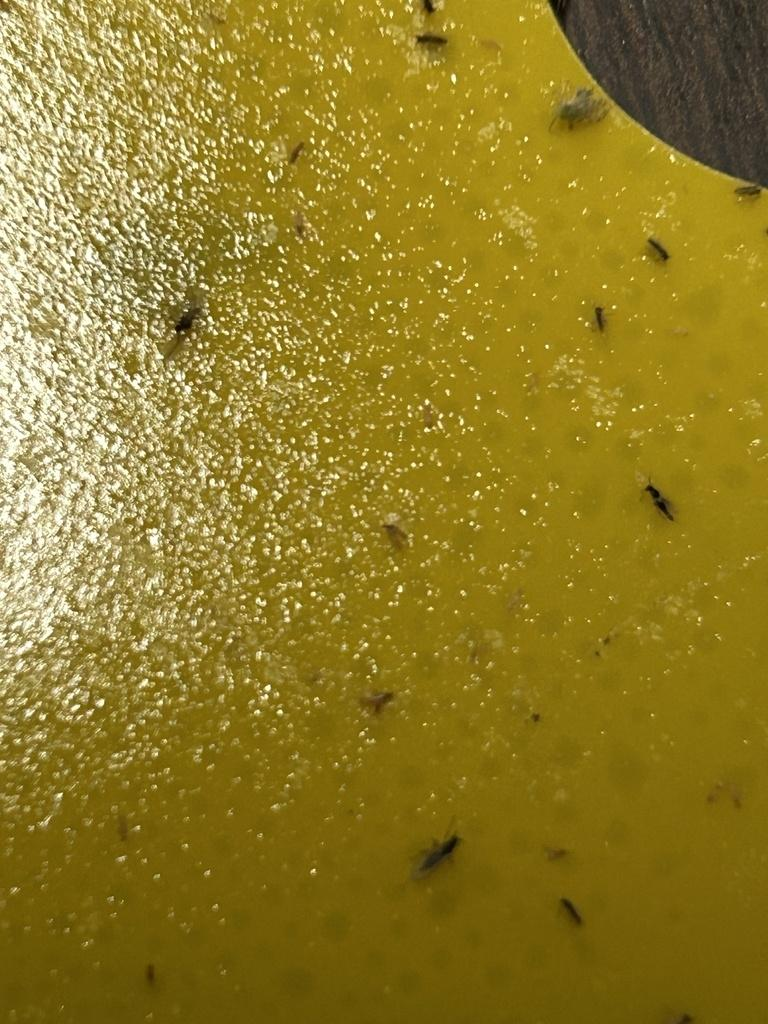tiny_pests: (397, 801, 479, 891), (630, 456, 694, 544), (636, 223, 683, 281), (577, 287, 616, 344)
